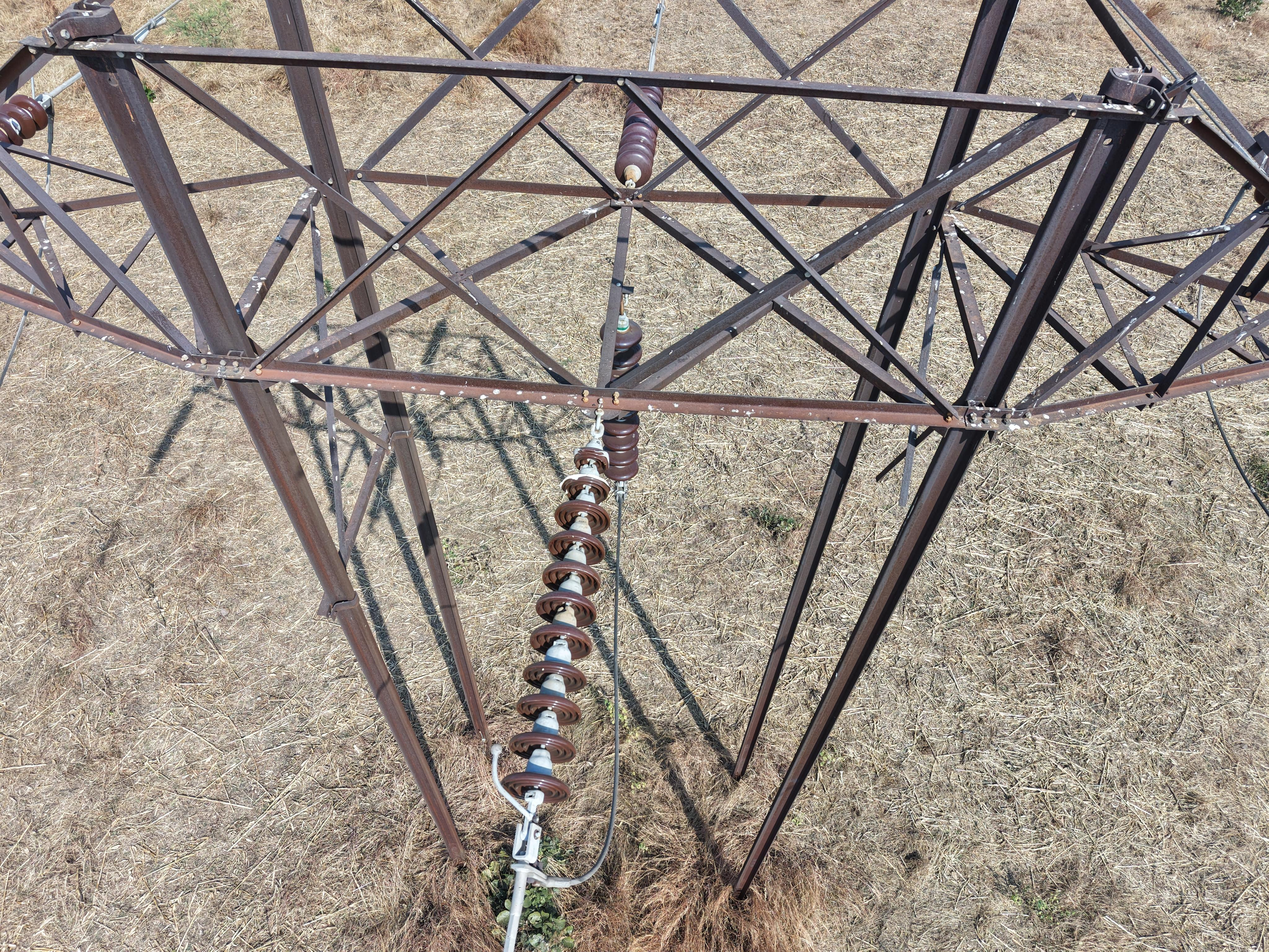broken_insulator: (559, 473, 612, 501), (573, 446, 612, 474), (1, 108, 24, 147)
